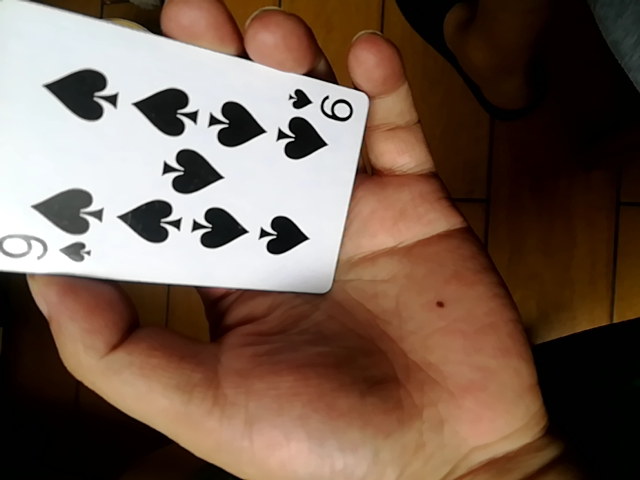ht 9: (4, 5, 369, 301)
